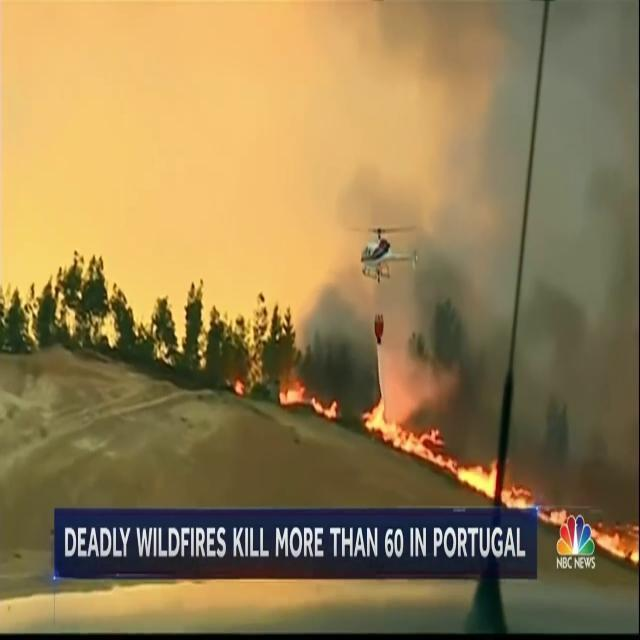Fire: (448, 449, 538, 512), (363, 388, 426, 462), (278, 374, 339, 421)
Smoke: (288, 1, 638, 403)
